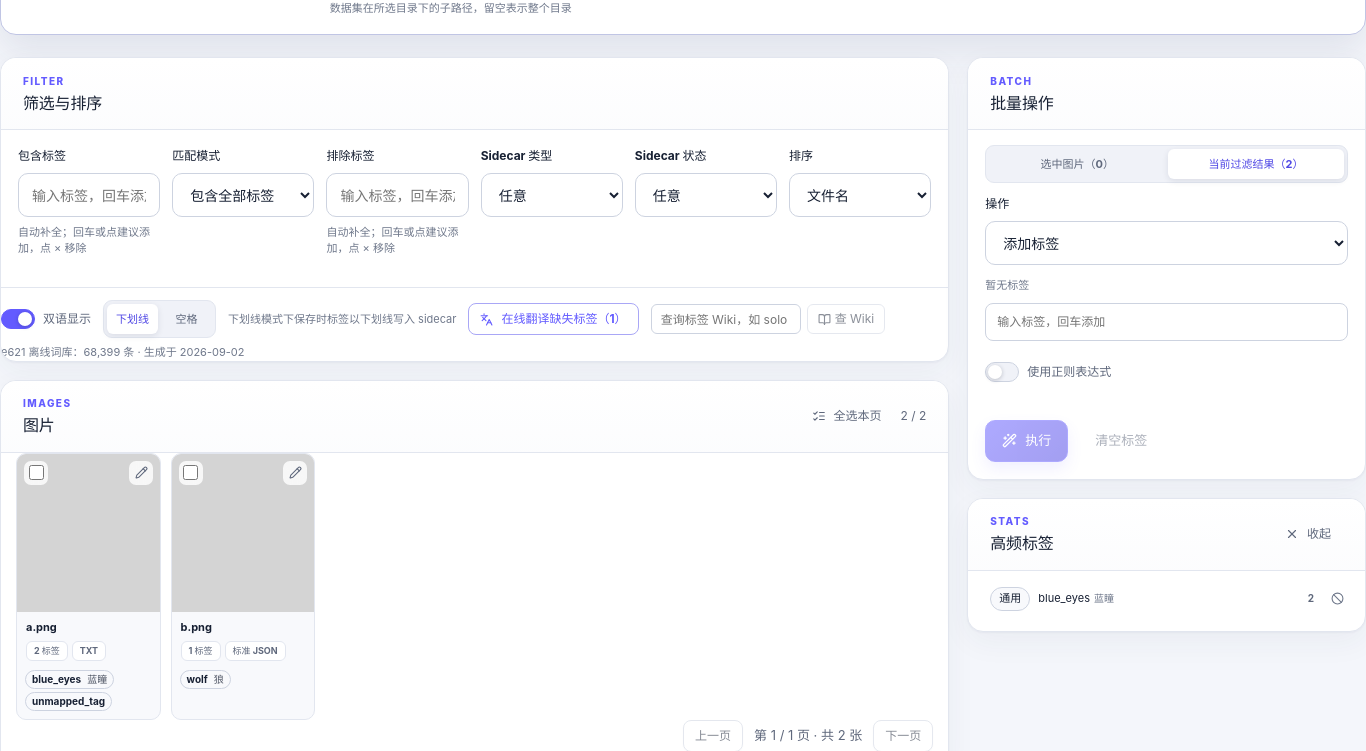
Test: TagManager NL translation › explains how to fix a missing online provider
(page scrolled)
Double-click the button titled "b.png".
double_click(243, 545)  # box [172,454,314,637]
(page scrolled)
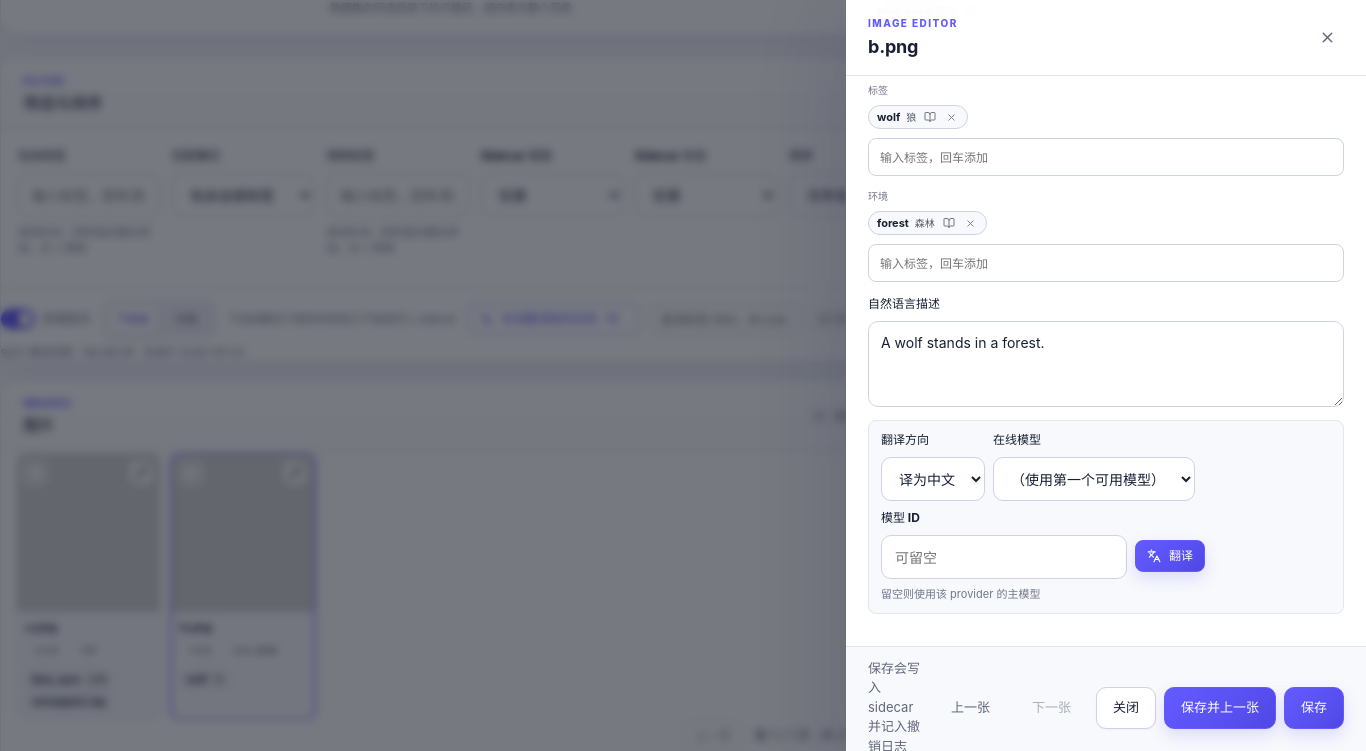
Click the button "翻译".
click(1170, 556)  # box [1135,540,1205,572]
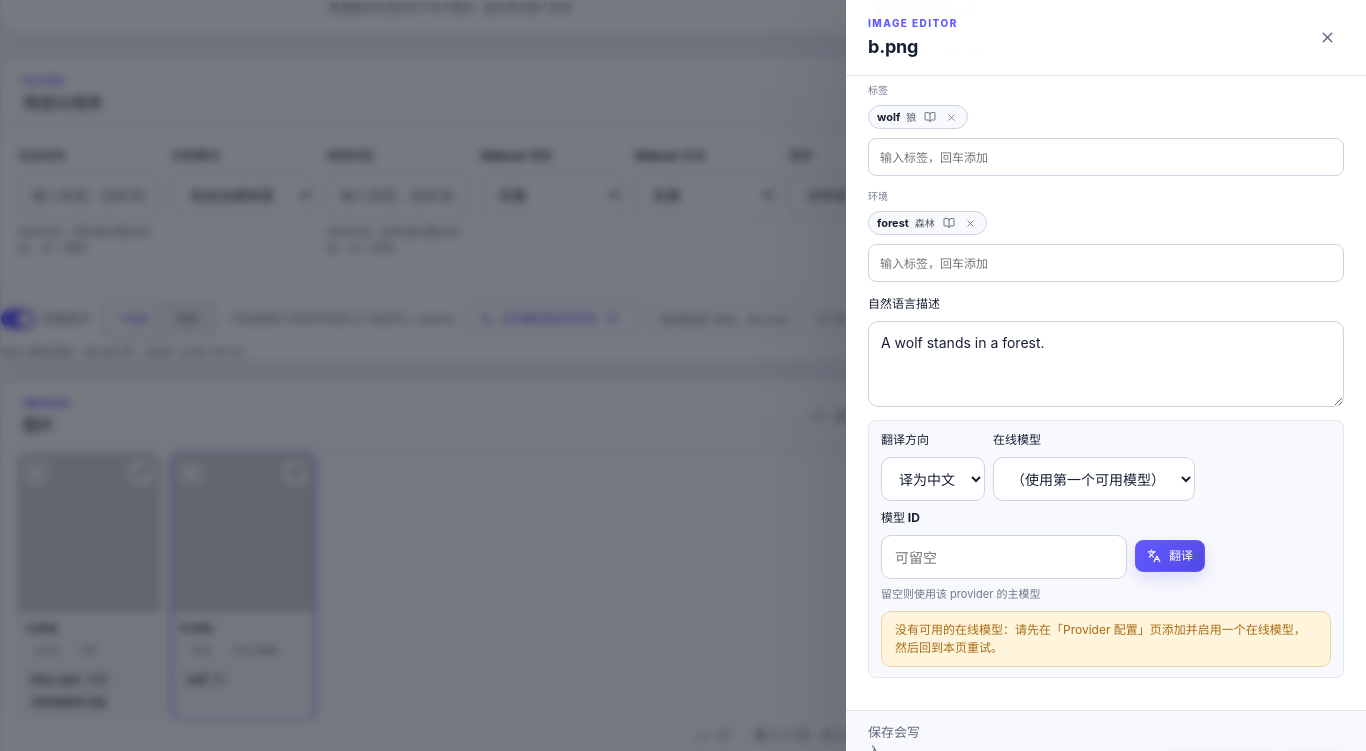
Result: the text "没有可用的在线模型：请先在「Provider 配置」页添加并启用一个在线模型，然后回到本页重试。" is shown at [881,611,1331,667]
